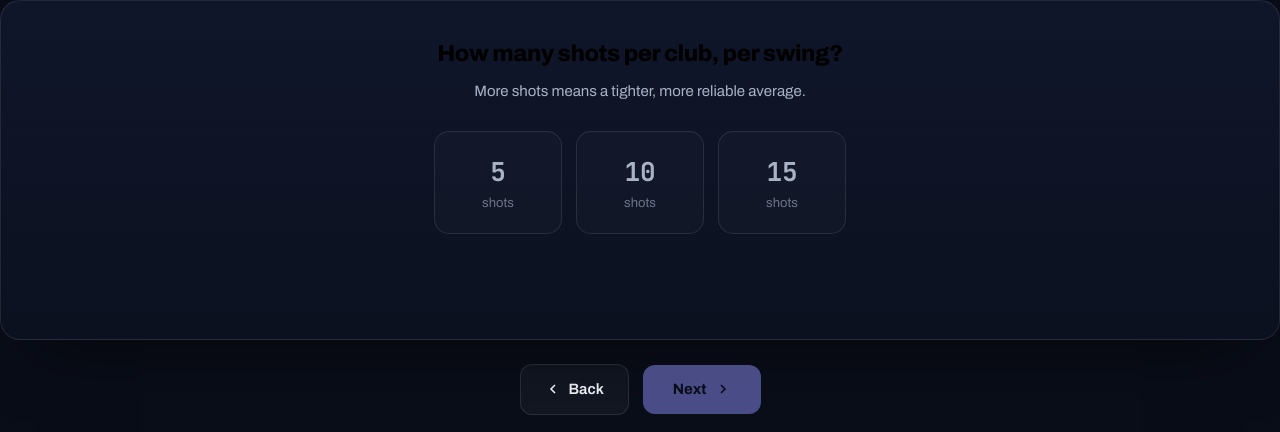
it: ShotCountSelector Component › disables Next until an option is selected
Expected: the button with test id "shot-count-next-button" is disabled, [643, 365, 760, 414]
Click the button with test id "shot-count-5" at [498, 183], box [434, 131, 562, 234]
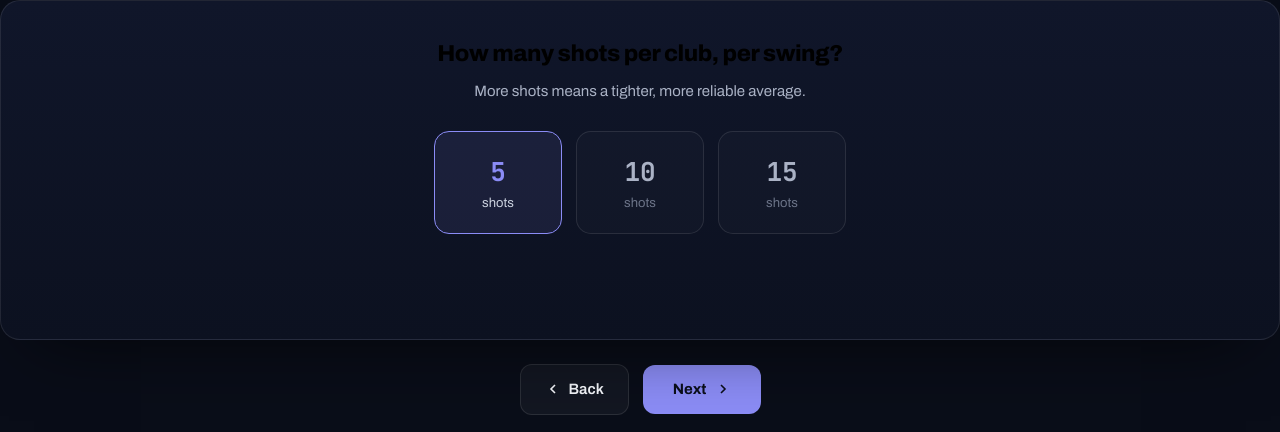
Now the button with test id "shot-count-next-button" is enabled, box [643, 365, 760, 414]
